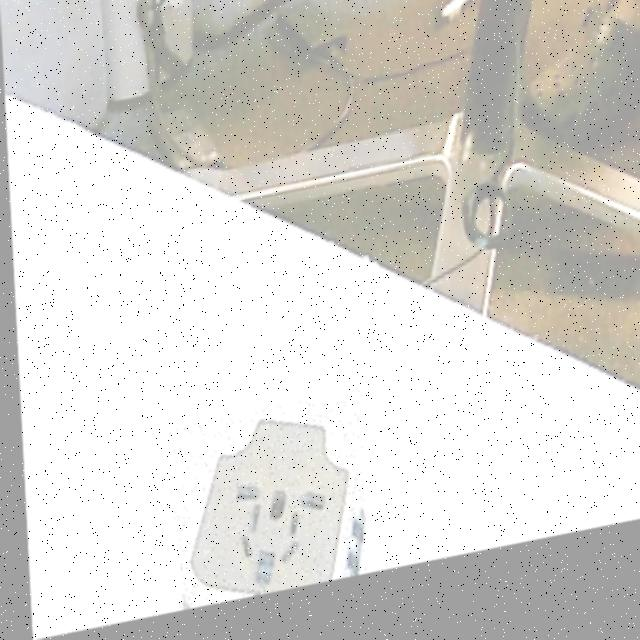adapter: (165, 403, 362, 617)
